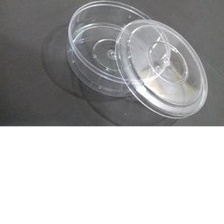plastic_box: (59, 0, 215, 121)
